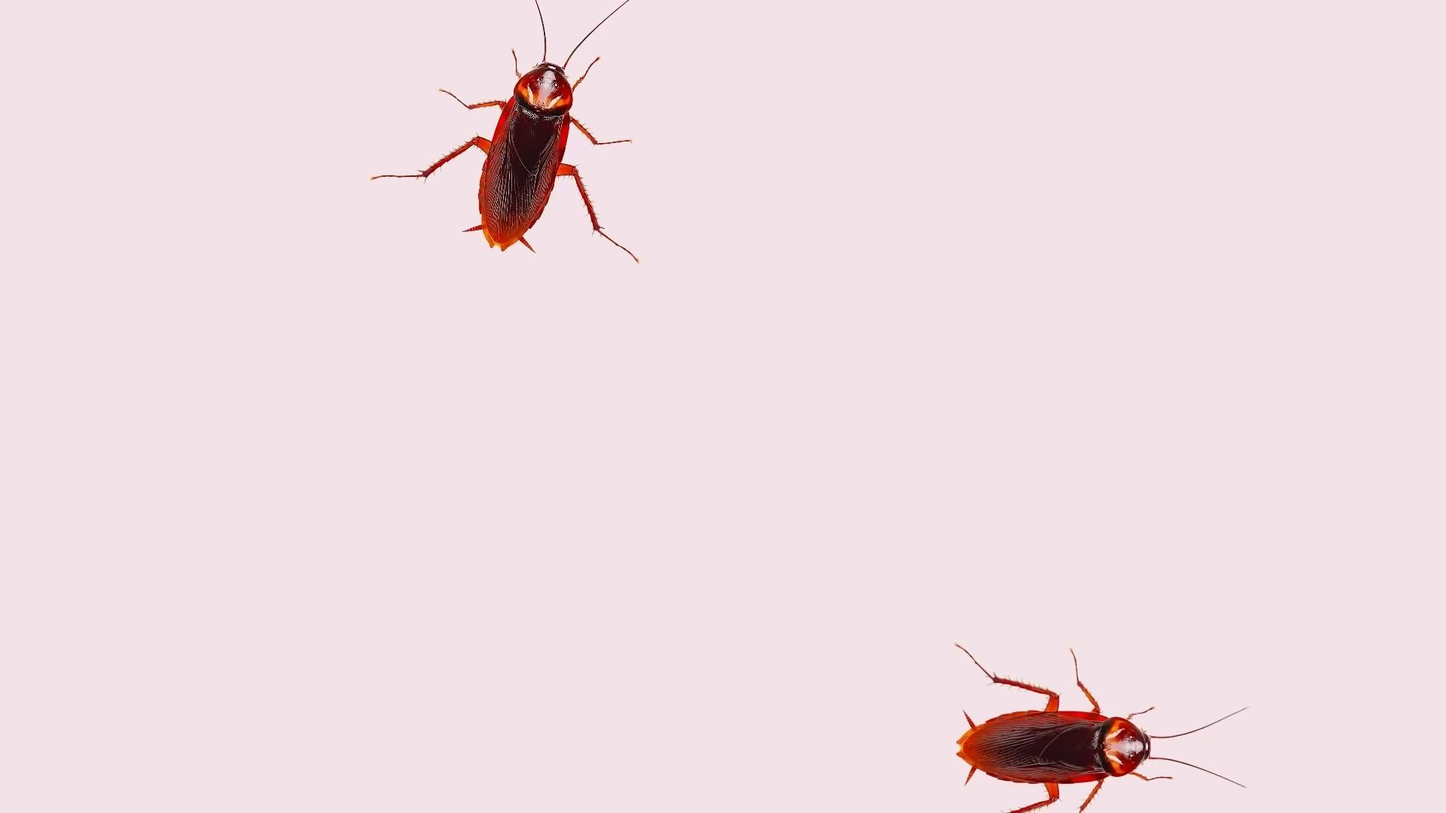cockroach: (388, 38, 622, 268), (961, 644, 1212, 813)
